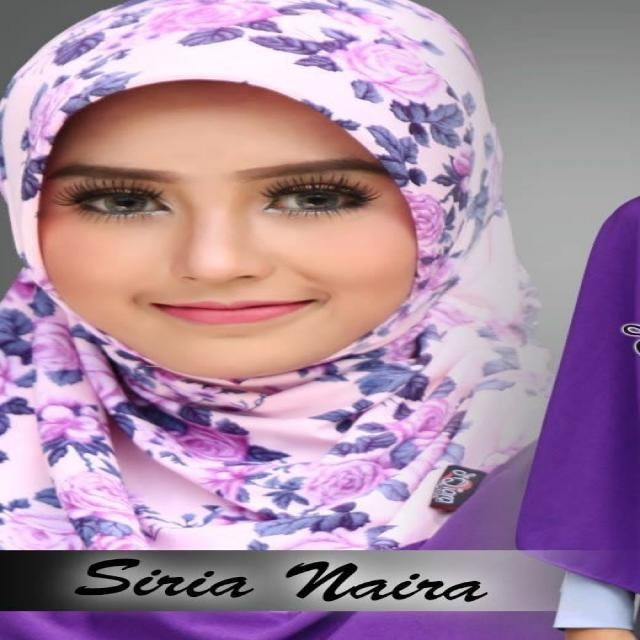head: (1, 1, 509, 383)
